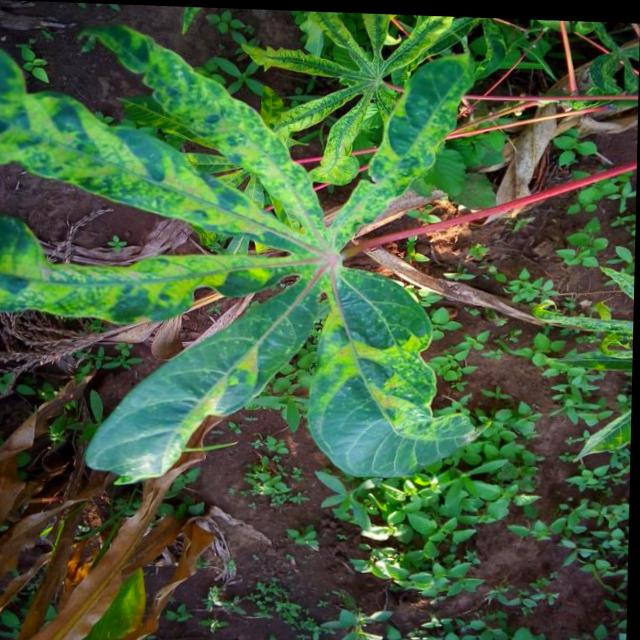Mosaico: (39, 37, 478, 501)
